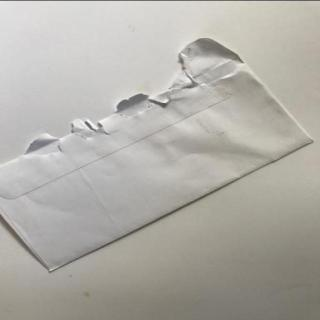Anorganik: (3, 40, 304, 263)
